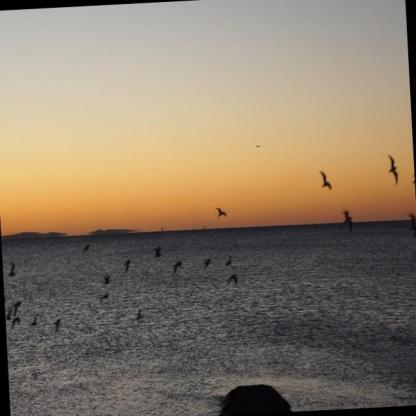bird: (387, 153, 399, 185), (318, 170, 333, 195), (405, 209, 416, 237), (213, 204, 228, 220), (341, 208, 352, 229), (11, 298, 23, 316), (226, 271, 239, 287), (172, 259, 183, 277), (151, 243, 162, 259), (12, 317, 22, 334), (7, 262, 16, 279), (202, 256, 213, 269), (225, 253, 234, 268), (124, 256, 132, 272), (53, 316, 61, 332), (29, 315, 39, 327), (102, 271, 111, 283), (82, 241, 91, 252)
